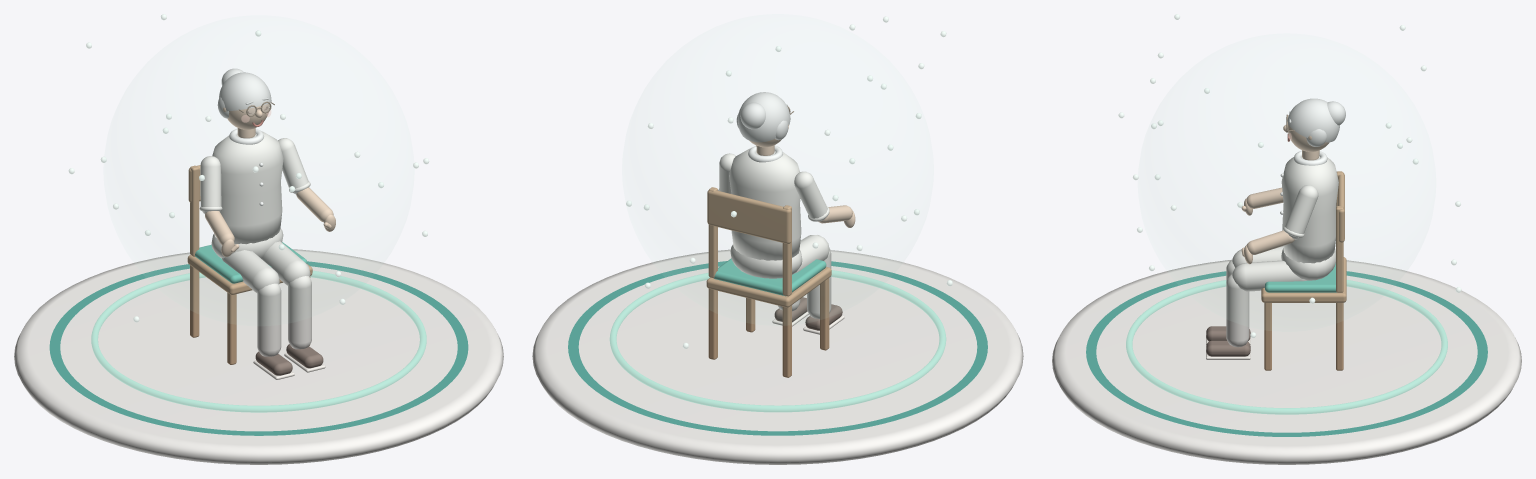
The model's file is 05-skt-breathing.glb.
The picture shows the model from 3 angles, left to right: view 1: azimuth 30°, elevation 25°; view 2: azimuth 150°, elevation 25°; view 3: azimuth 270°, elevation 25°; orthographic projection. The views are drawn at different scales.
Bounding box in the file's own units: 2.76 × 2.09 × 2.76.
